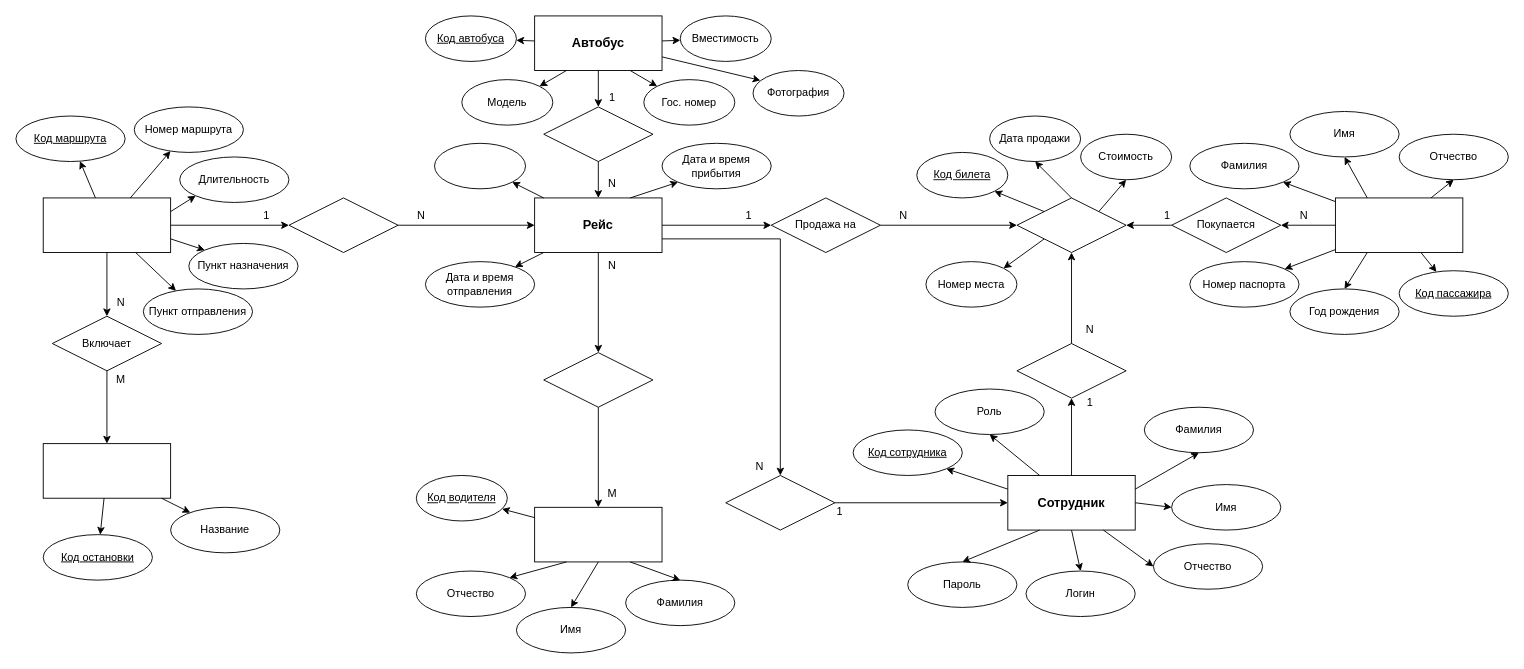
Image size: 1524x669. Some labels were removed from this diagram. The shapes that lost their labels are listed below. From the top down, each one's centre as x and y in pixels, then its label:
point 598,134: Выполняется на
point 480,165: Код рейса
point 106,225: Маршрут
point 343,225: Реализуется в
point 1071,225: Билет
point 1399,225: Пассажир
point 598,379: Управляется
point 1071,370: Оформляет
point 106,470: Остановка
point 780,502: Создаёт
point 598,534: Водитель
